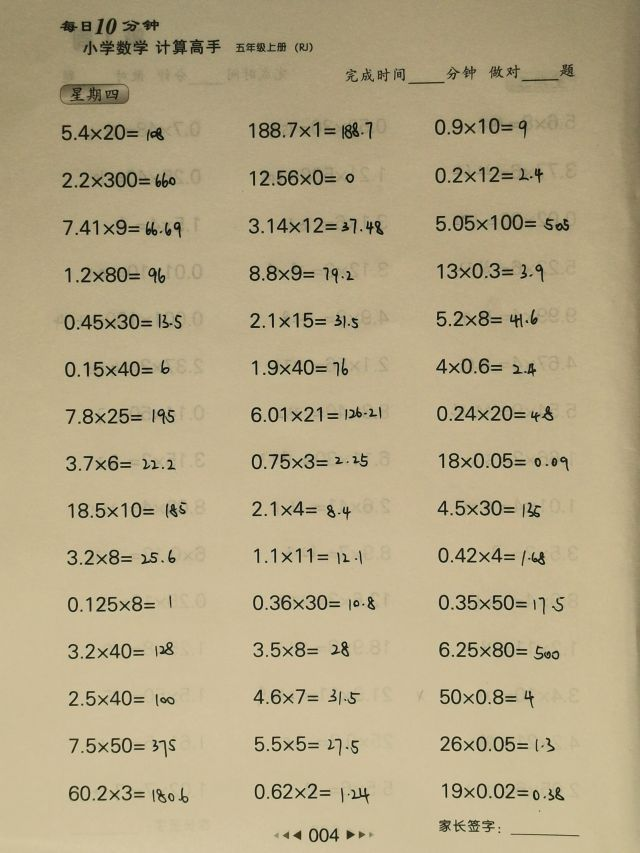equation: (438, 778, 570, 807), (244, 212, 387, 238), (432, 210, 574, 236), (245, 117, 377, 144), (434, 590, 567, 616), (434, 448, 572, 473), (64, 780, 192, 806), (250, 778, 372, 805), (59, 308, 185, 334), (59, 214, 185, 240), (434, 637, 563, 662), (247, 403, 386, 426), (249, 591, 380, 615), (432, 400, 557, 425), (57, 119, 167, 147), (436, 731, 558, 756), (59, 167, 180, 192), (250, 731, 362, 758), (65, 498, 191, 522), (431, 162, 547, 188), (247, 450, 372, 474), (64, 733, 179, 759), (433, 258, 547, 284), (244, 260, 357, 286), (246, 308, 363, 333), (63, 451, 179, 476), (63, 404, 179, 429), (430, 112, 530, 141), (433, 543, 548, 568), (433, 306, 542, 332), (64, 638, 177, 663), (61, 357, 174, 382), (432, 353, 540, 379), (61, 261, 169, 287), (246, 165, 358, 190), (433, 495, 544, 520), (250, 685, 364, 709), (249, 355, 353, 381), (64, 592, 176, 616), (64, 546, 180, 569), (250, 544, 366, 567), (66, 687, 179, 710), (435, 685, 537, 710), (249, 497, 354, 521), (250, 638, 353, 662)
